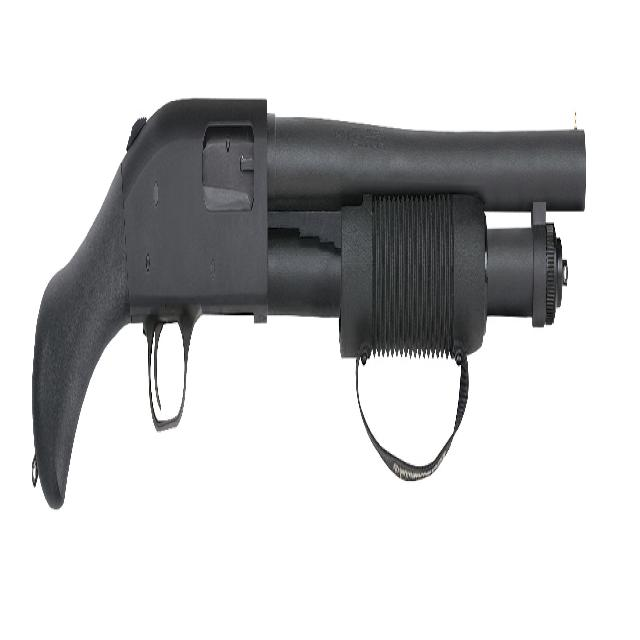ShotGun: (30, 97, 588, 515)
